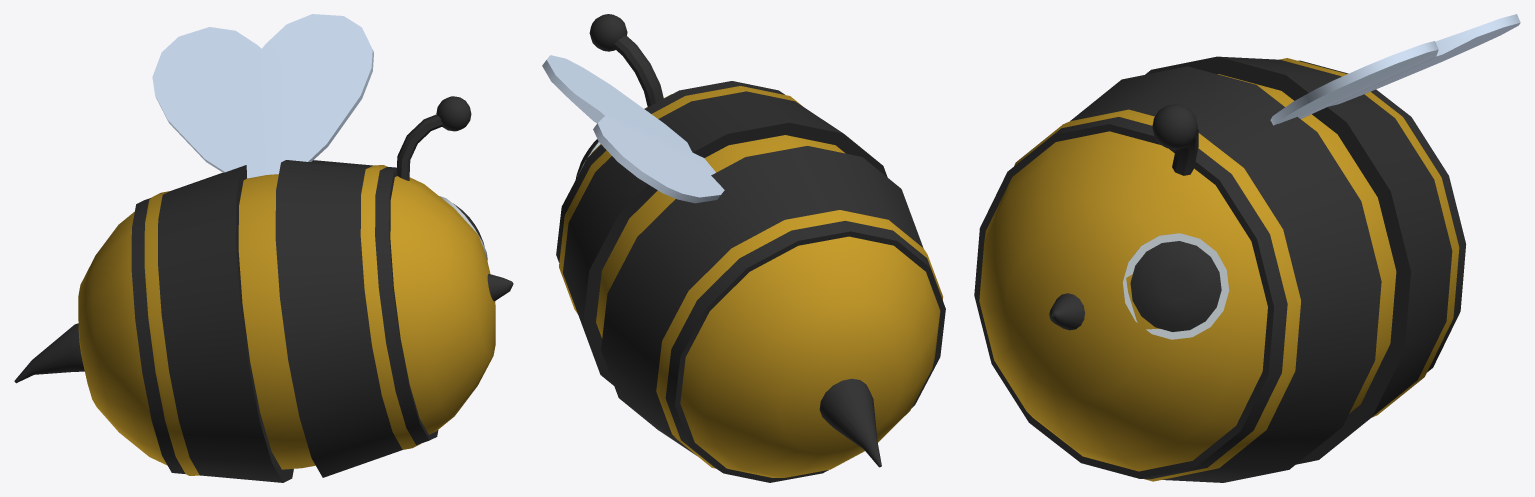
Rendered from Bee.glb.
The picture shows the model from 3 angles, left to right: view 1: azimuth 30°, elevation 25°; view 2: azimuth 150°, elevation 25°; view 3: azimuth 270°, elevation 25°; orthographic projection. The views are drawn at different scales.
Parts seen in each view (by area): view 1: Circle.028, Circle.026, Plane.017, Circle.025, Circle.032, Sphere.022; view 2: Circle.026, Circle.028, Plane.017, Circle.025, Circle.032, Sphere.022; view 3: Circle.026, Circle.028, Circle.030, Plane.017, Circle.029, Sphere.022, Circle.027, Circle.032.
Part boxes in pixels (box(x1,y1,x2,y2)): Circle.028: box(131, 160, 438, 482); Circle.026: box(78, 165, 495, 475); Plane.017: box(152, 14, 373, 178); Circle.025: box(14, 323, 84, 383); Circle.032: box(396, 114, 443, 180); Sphere.022: box(436, 96, 471, 131); Circle.026: box(559, 86, 943, 477); Circle.028: box(556, 81, 945, 482); Plane.017: box(542, 55, 724, 203); Circle.025: box(819, 378, 881, 467); Circle.032: box(614, 35, 663, 106); Sphere.022: box(589, 14, 627, 51); Circle.026: box(979, 58, 1459, 481); Circle.028: box(974, 56, 1466, 482); Circle.030: box(1130, 241, 1221, 331); Plane.017: box(1270, 14, 1520, 125); Circle.029: box(1122, 233, 1229, 339); Sphere.022: box(1152, 104, 1197, 149); Circle.027: box(1049, 293, 1085, 330); Circle.032: box(1172, 129, 1198, 175).
Size of the model in its own units: 1.23 by 1.18 by 1.2.
